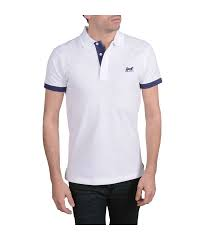C_polo shirt: (48, 33, 167, 182)
